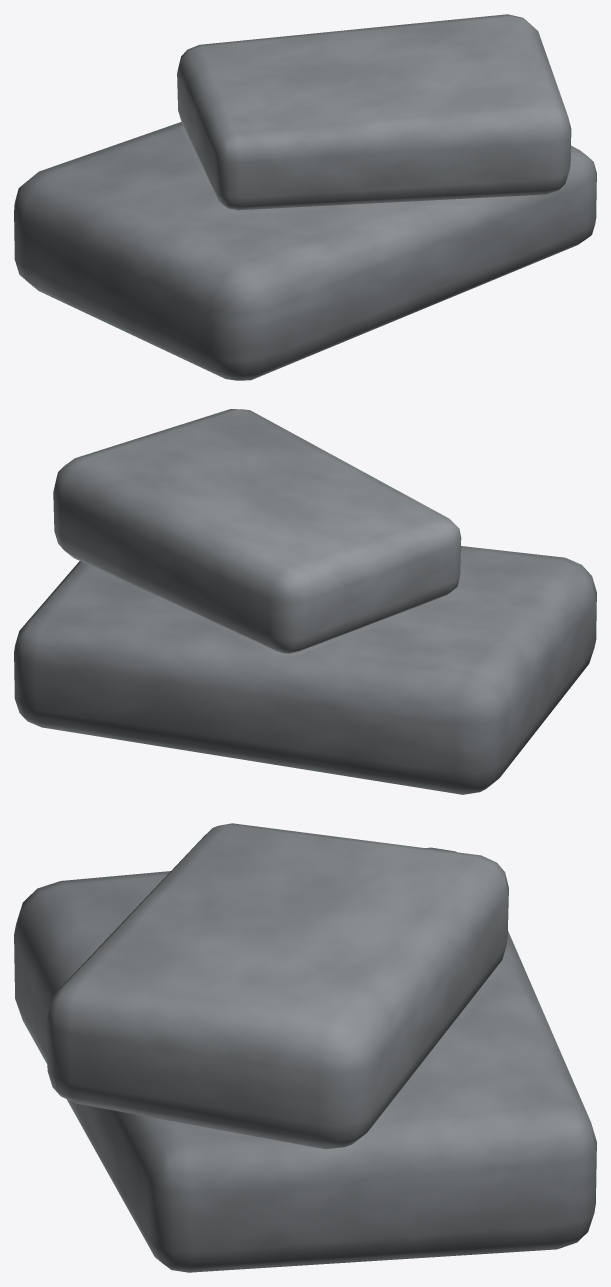
The model's file is rock_c.hi.glb.
The picture shows the model from 3 angles, top to bottom: view 1: azimuth 30°, elevation 25°; view 2: azimuth 150°, elevation 25°; view 3: azimuth 270°, elevation 25°; orthographic projection. The views are drawn at different scales.
Parts seen in each view (by area): view 1: rock; view 2: rock; view 3: rock.
Boxes of the visible parts, bbox=[...] form: rock: bbox=[14, 14, 596, 380]; rock: bbox=[14, 409, 596, 794]; rock: bbox=[14, 823, 596, 1272].
Size of the model in its own units: 2.41 by 0.9571 by 1.89.
Materials: 1 (1 with a texture image).
